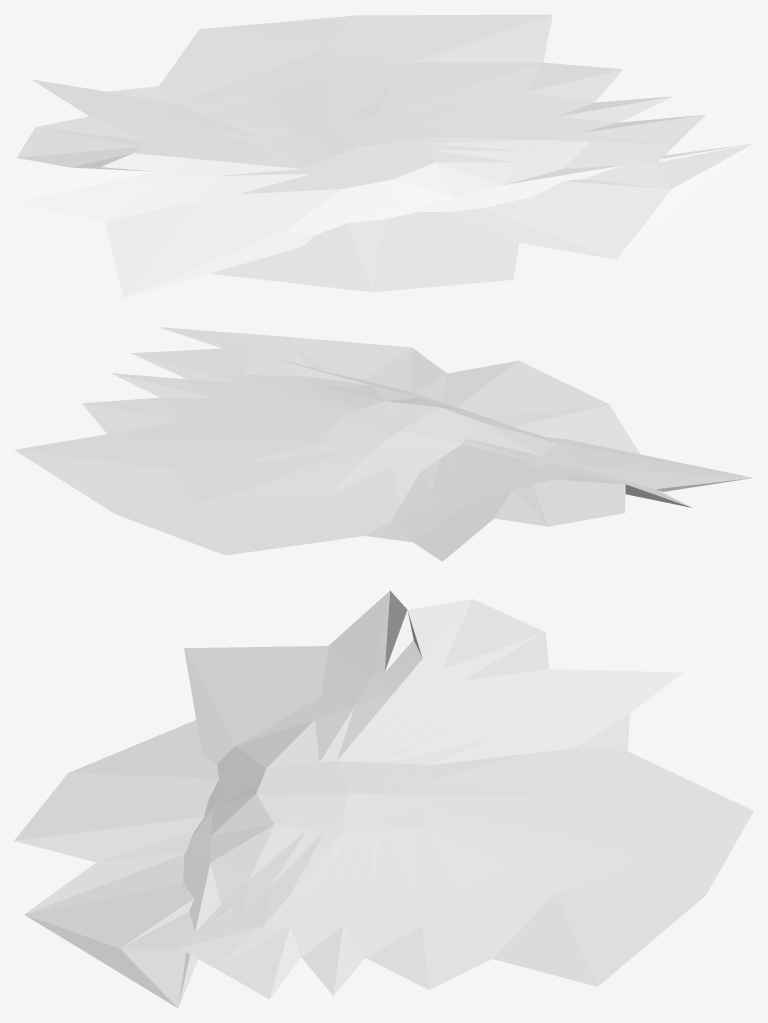
Rendered from giza.obj.
The picture shows the model from 3 angles, top to bottom: view 1: azimuth 30°, elevation 25°; view 2: azimuth 150°, elevation 25°; view 3: azimuth 270°, elevation 25°; orthographic projection. The views are drawn at different scales.
Parts seen in each view (by area): view 1: 立方体; view 2: 立方体; view 3: 立方体.
Part boxes in pixels (box(x1,y1,x2,y2)): 立方体: box(14, 14, 753, 298); 立方体: box(14, 327, 752, 561); 立方体: box(14, 590, 753, 1008).
Size of the model in its own units: 6.26 by 0.6277 by 5.18.
Materials: 1 (1 with a texture image).
